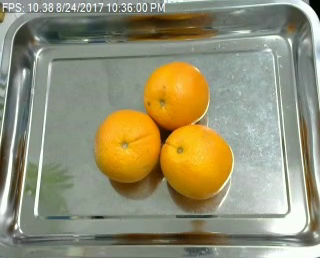Orange: (159, 124, 232, 199), (95, 108, 160, 183), (145, 60, 209, 127)
